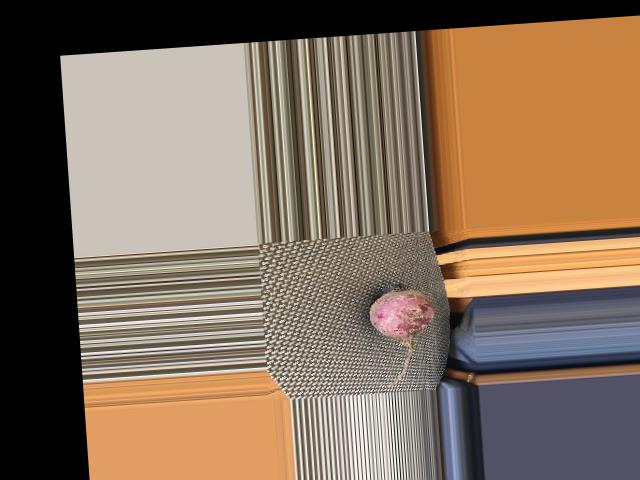beet: (368, 279, 440, 385)
